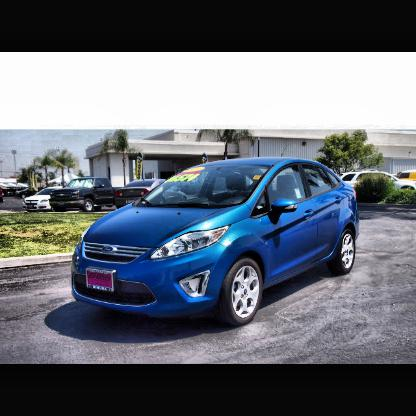Ford Fiesta Sedan 2012: (72, 159, 360, 329)
